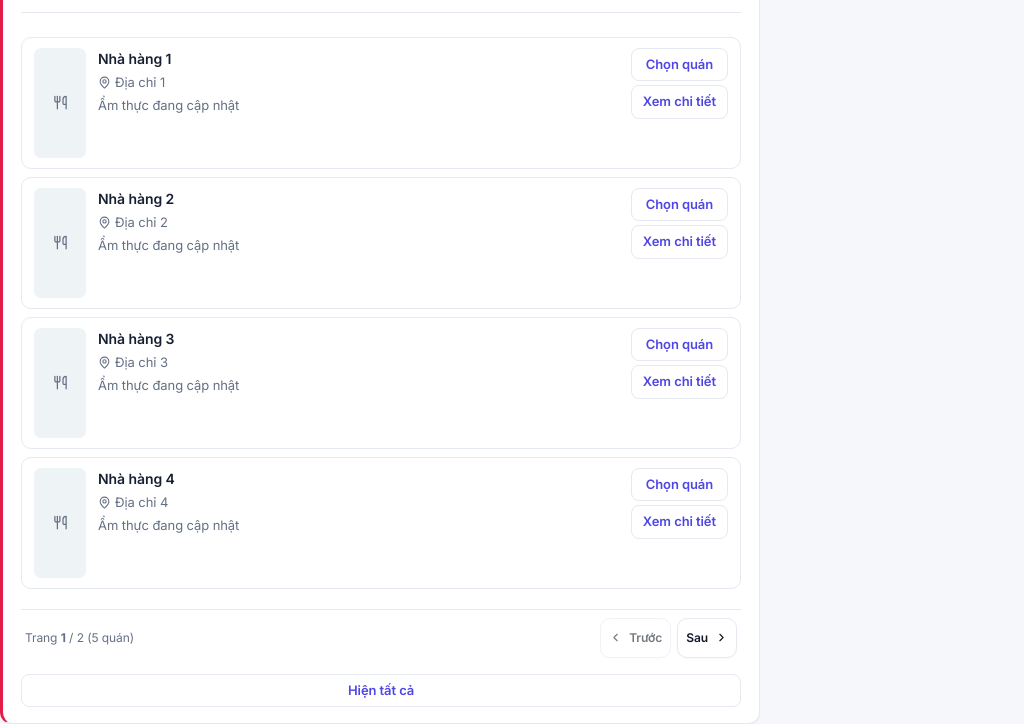
it: Result disclosure › shows four Restaurant rows by default and keeps the original action index
(page scrolled)
Check: the text "Nhà hàng 4" is shown, box [98,470,175,486]
Check: the text "Nhà hàng 5" is not shown
Click the button "Hiện tất cả".
click(381, 690)  # box [21,674,741,707]
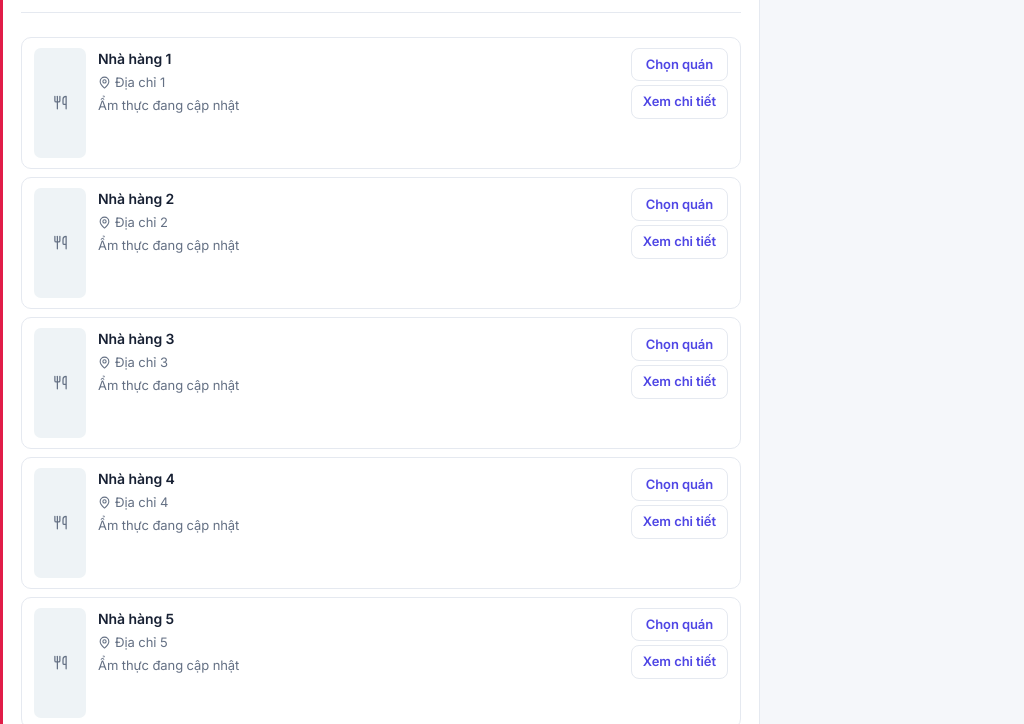
Check: the text "Nhà hàng 5" is shown, box [98,610,174,626]
Click the button "Chọn quán" in the row of "Nhà hàng 5".
click(679, 624)  # box [631,608,728,641]
(page scrolled)
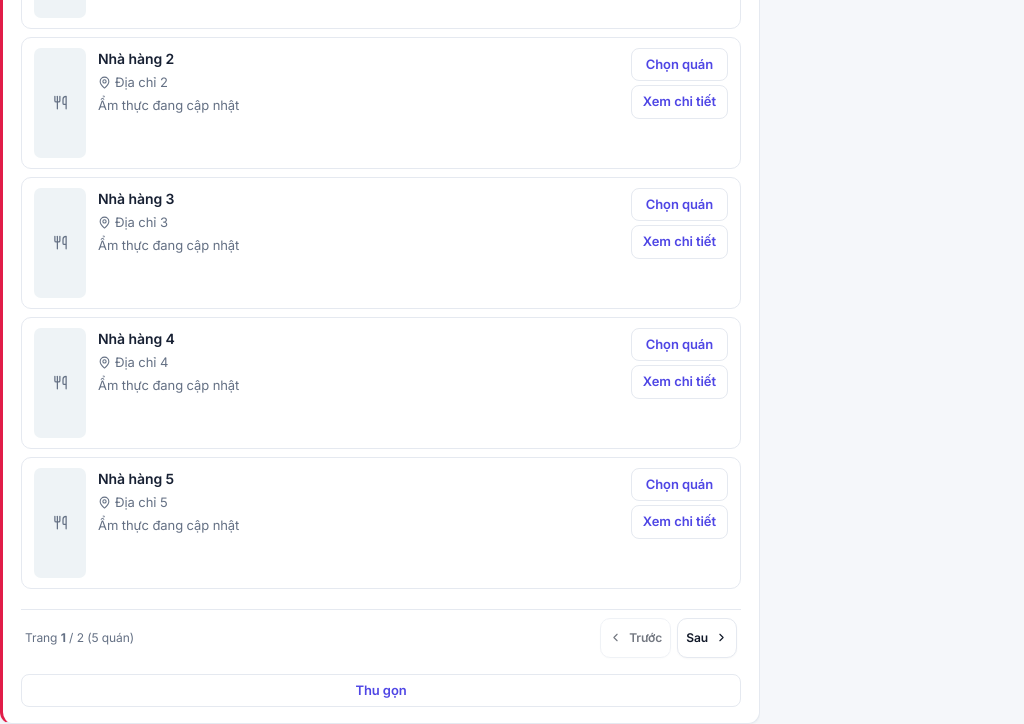
Click the button with aria-label "Thu gọn danh sách".
click(381, 690)  # box [21,674,741,707]
(page scrolled)
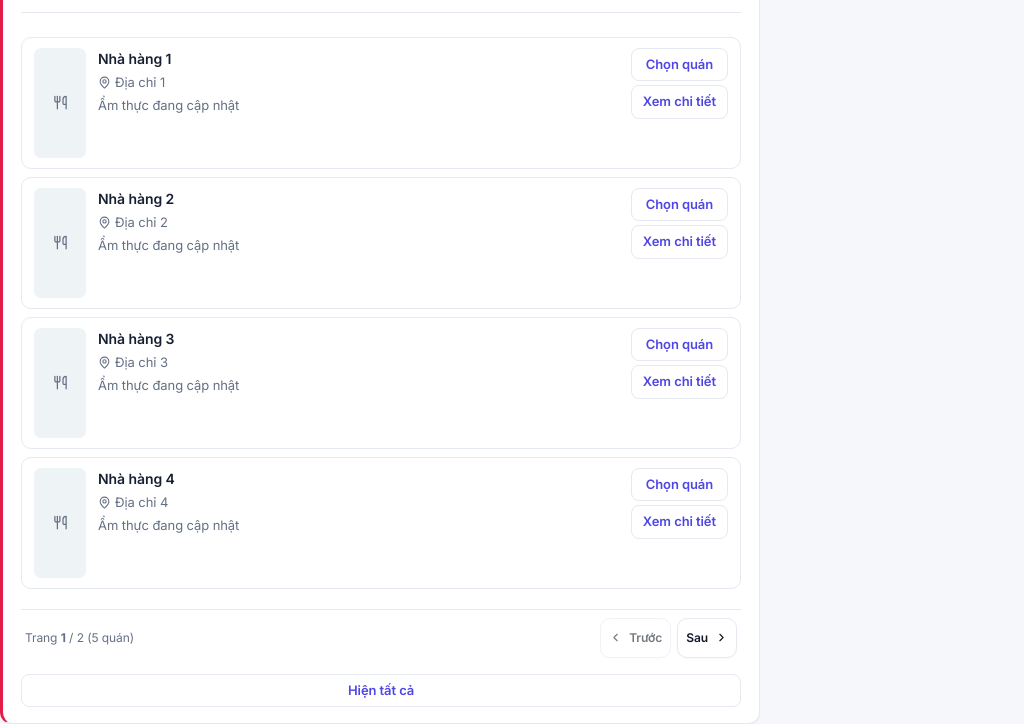
Check: the text "Nhà hàng 5" is gone
